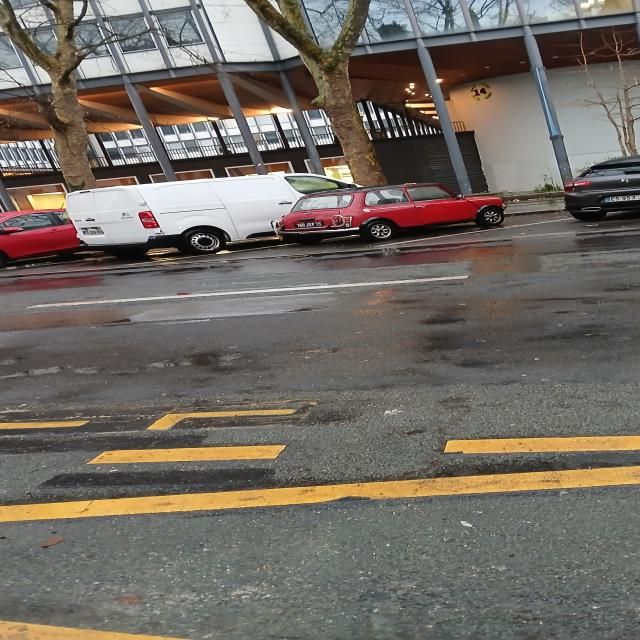Autre: (80, 228, 106, 236), (294, 222, 327, 228)
